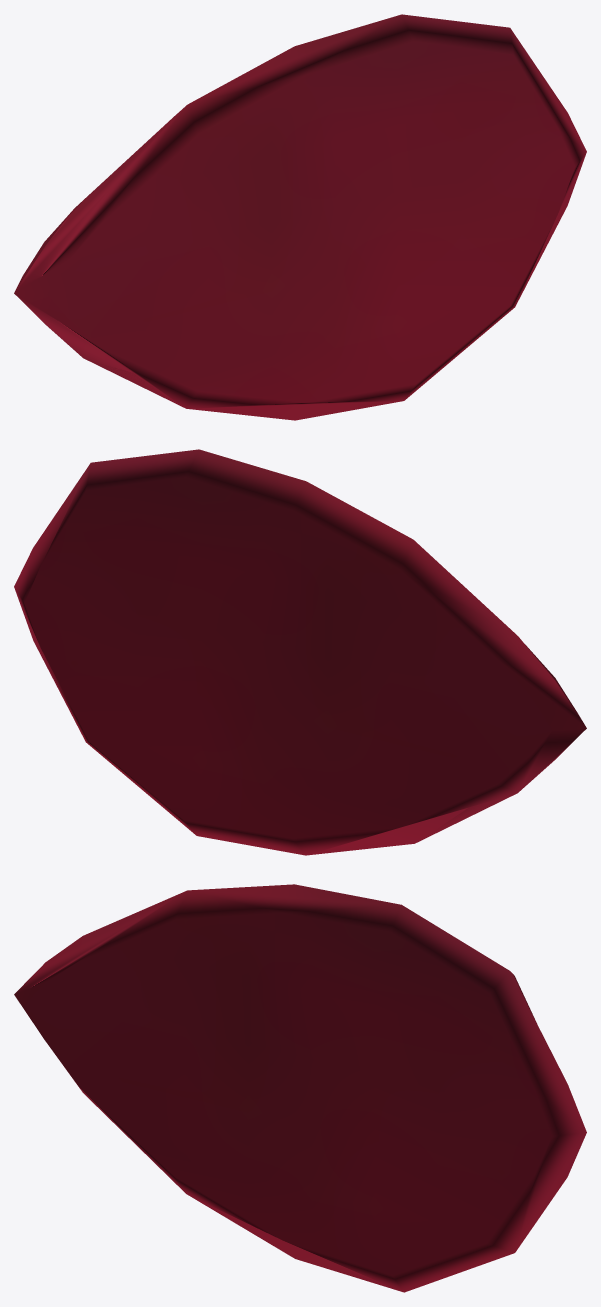
File: ruby.FBX
The picture shows the model from 3 angles, top to bottom: view 1: azimuth 30°, elevation 25°; view 2: azimuth 150°, elevation 25°; view 3: azimuth 330°, elevation 25°; orthographic projection.
Visible parts, largest first — view 1: Box001; view 2: Box001; view 3: Box001.
Boxes of the visible parts, x1,y1,x2,y2 form: Box001: (14,14,586,420); Box001: (14,449,586,855); Box001: (14,884,586,1292).
Size of the model in its own units: 669 by 432 by 49.98.
Materials: 1 (1 with a texture image).
